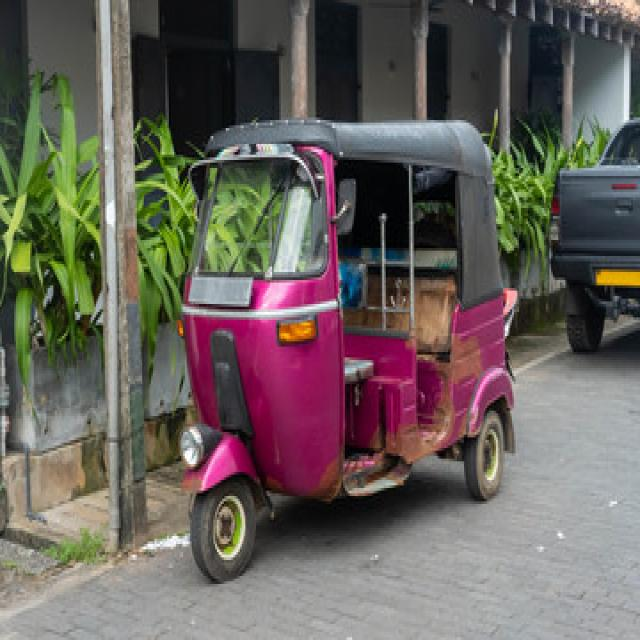three wheeler: (181, 120, 514, 581)
van: (551, 120, 638, 352)
